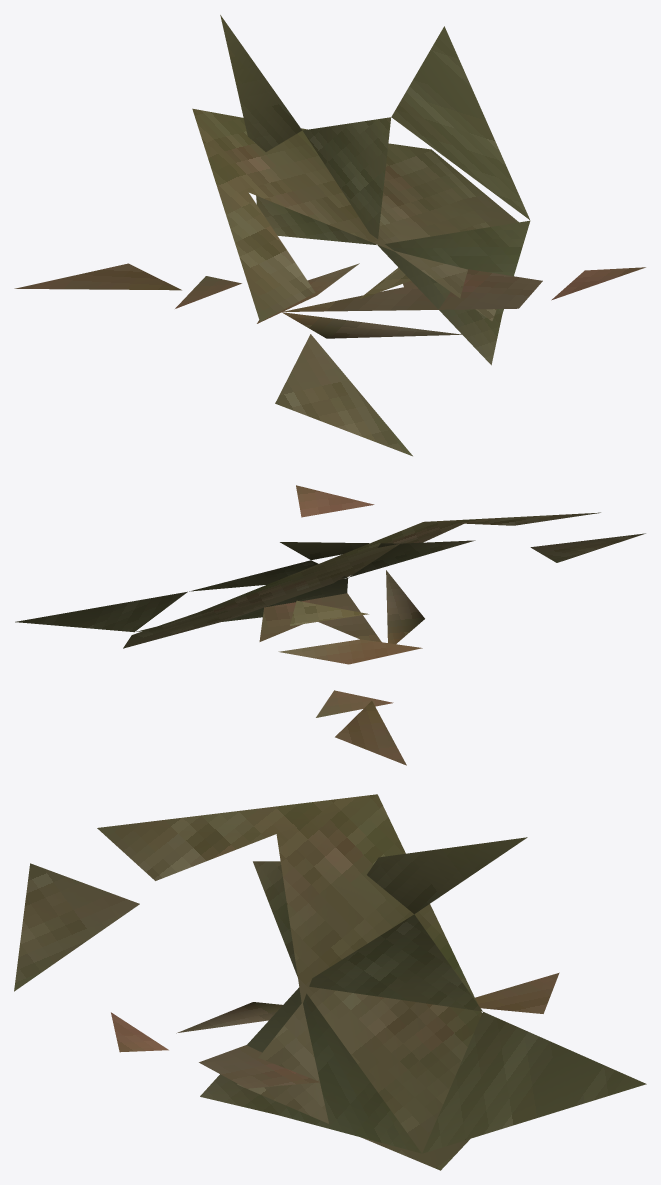
Rendered from Tufts_Aerial.glb.
The picture shows the model from 3 angles, top to bottom: view 1: azimuth 30°, elevation 25°; view 2: azimuth 150°, elevation 25°; view 3: azimuth 270°, elevation 25°; orthographic projection. The views are drawn at different scales.
Parts seen in each view (by area): view 1: Tuft_3, Tuft_2, Tuft_1, Tuft_0; view 2: Tuft_3, Tuft_2, Tuft_1, Tuft_0; view 3: Tuft_3, Tuft_2, Tuft_1, Tuft_0.
Boxes of the visible parts, <box> form: Tuft_3: <box>220,15,530,456</box>; Tuft_2: <box>192,108,518,321</box>; Tuft_1: <box>14,263,542,338</box>; Tuft_0: <box>175,263,645,323</box>; Tuft_3: <box>15,533,645,632</box>; Tuft_2: <box>123,512,600,648</box>; Tuft_1: <box>259,570,424,765</box>; Tuft_0: <box>278,485,422,717</box>; Tuft_3: <box>14,837,646,1153</box>; Tuft_2: <box>97,794,482,1170</box>; Tuft_1: <box>176,972,559,1088</box>; Tuft_0: <box>111,1012,168,1052</box>.
Size of the model in its own units: 11.59 by 5.25 by 13.74.
Materials: 1 (1 with a texture image).
